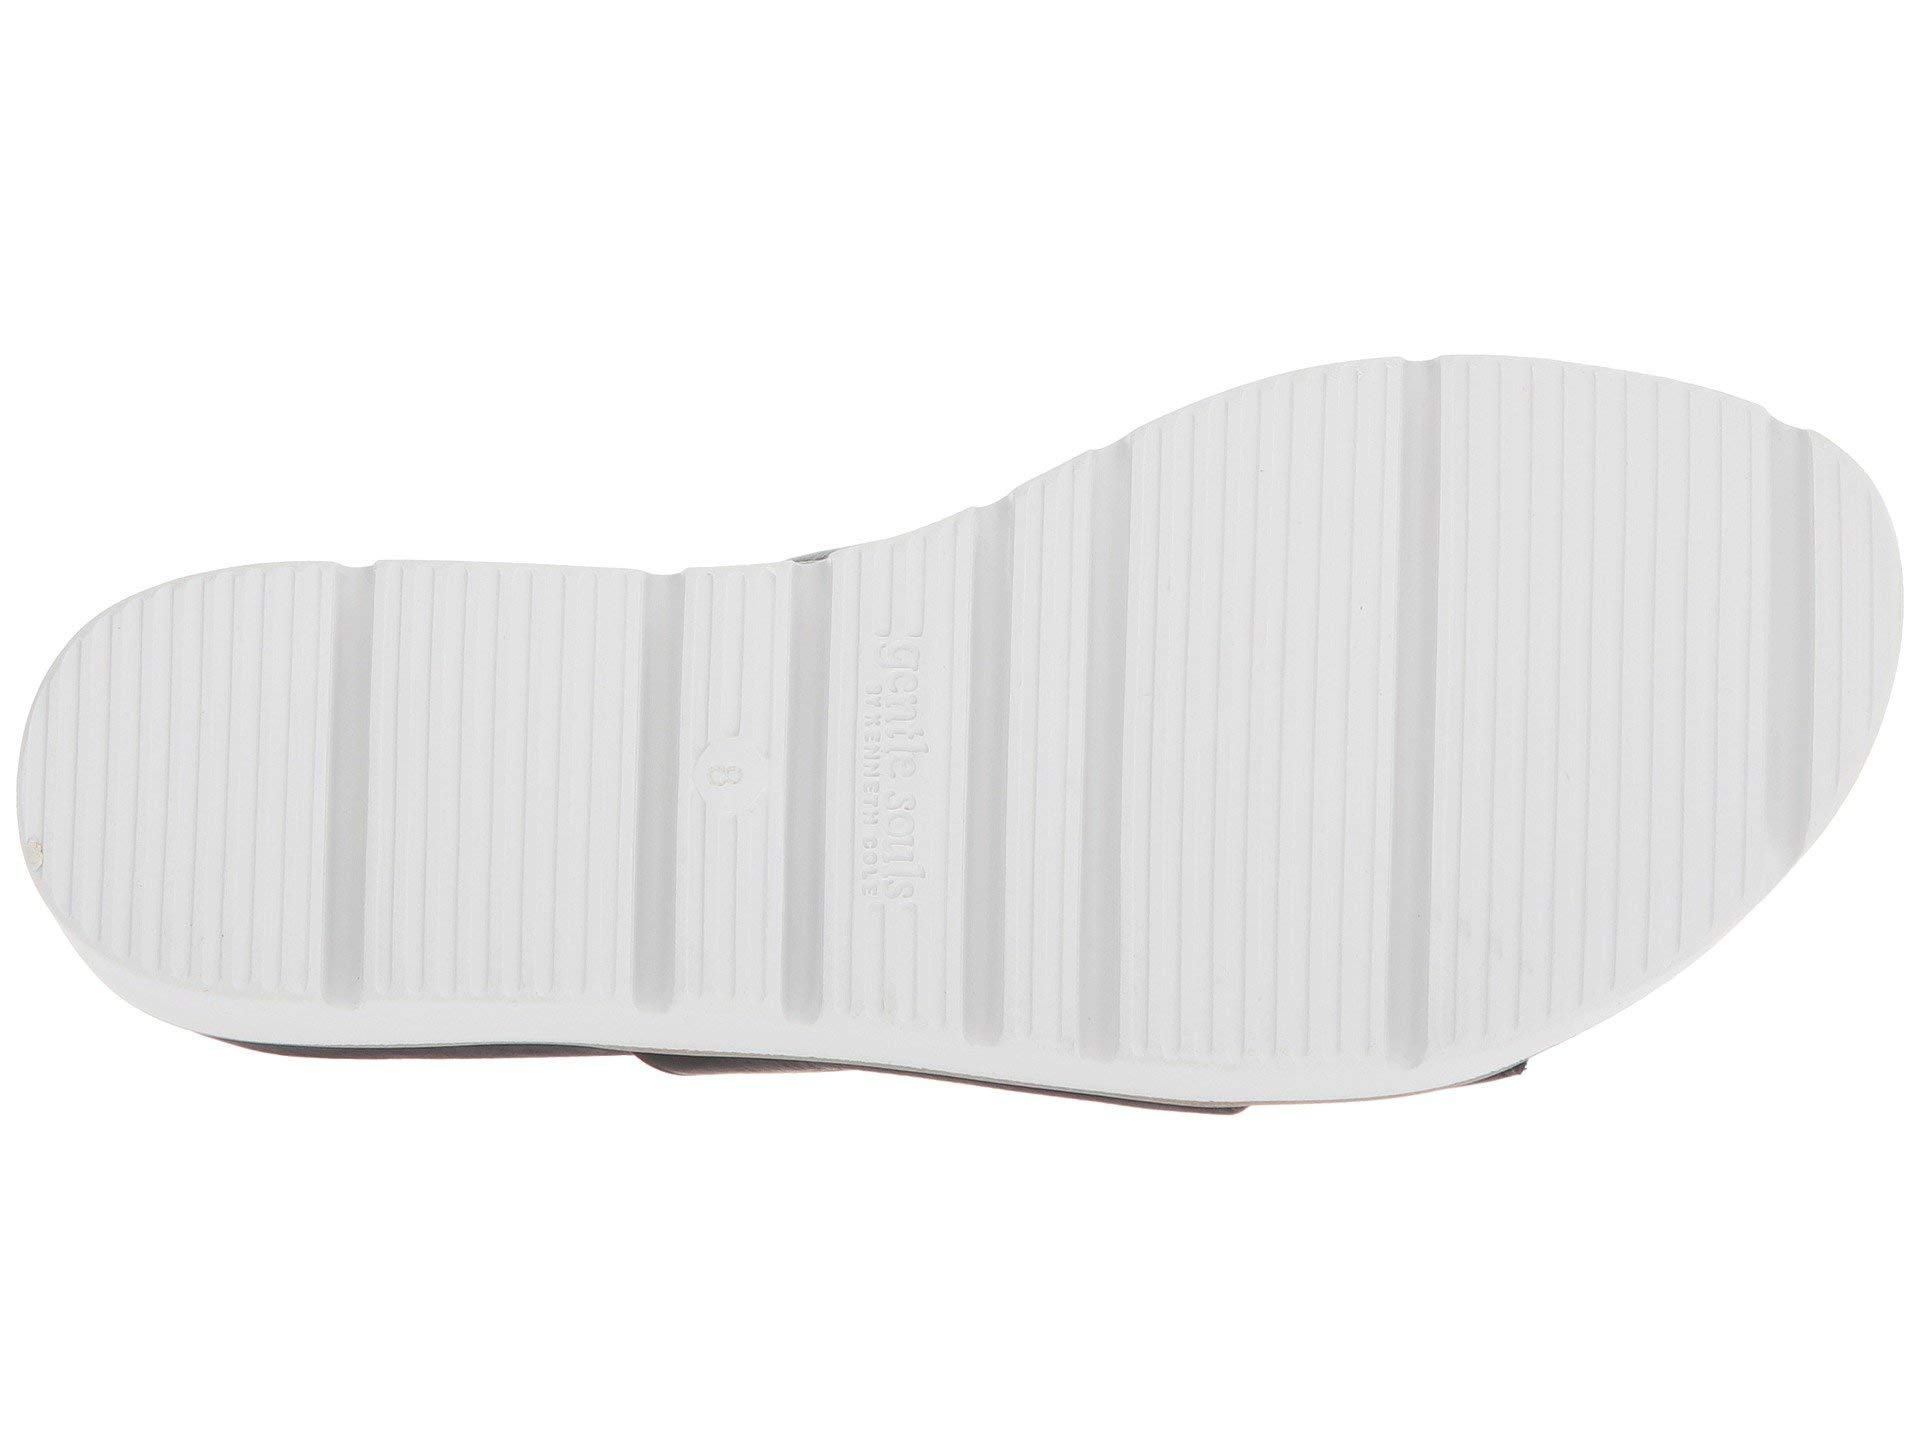circle: (662, 723, 801, 850)
line: (760, 628, 1099, 898), (662, 723, 801, 850)
text: (760, 628, 1099, 898), (662, 723, 801, 850)
